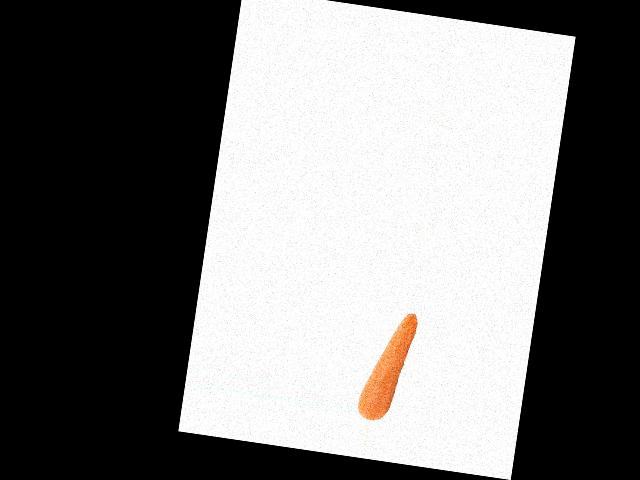carrot: (358, 305, 424, 407)
